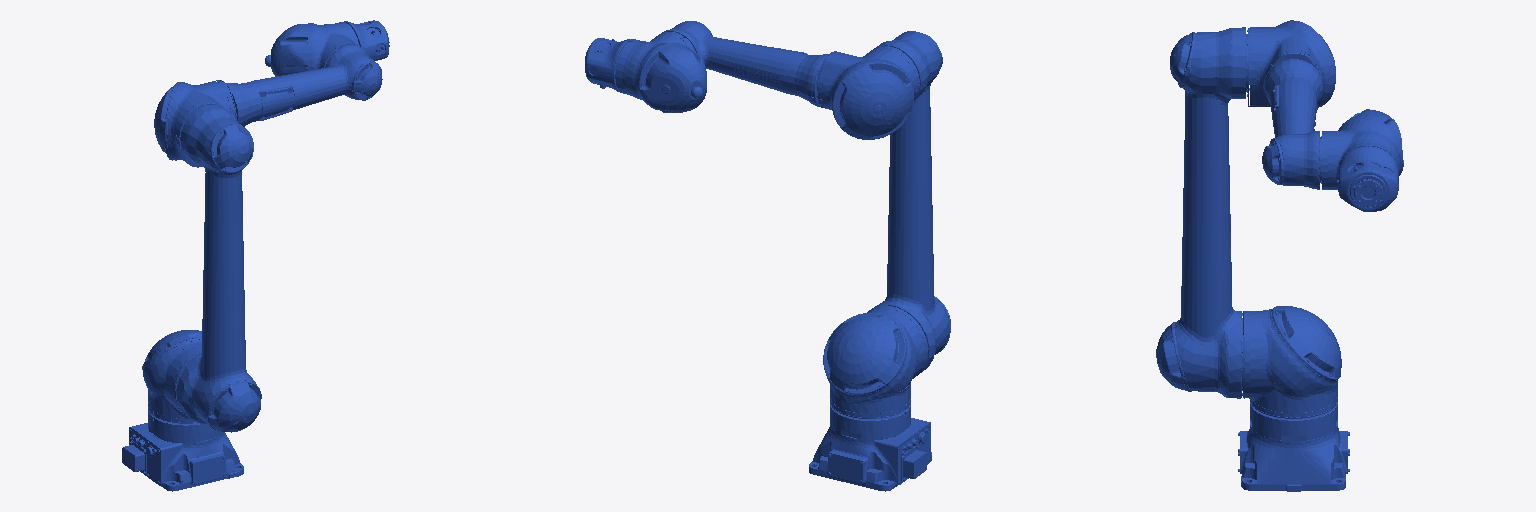
robot.urdf — motoman_hc10dtp:
<?xml version="1.0"?>
<robot name="motoman_hc10dtp">
  <link name="base_link"><visual><origin xyz="0.0000 0.0000 0.0000"/><geometry><mesh filename="meshes/hc10/collision/base_link.stl"/></geometry><material name="yaskawa_blue"><color rgba="0.25 0.4 0.75 1"/></material></visual><collision><origin xyz="0.0000 0.0000 0.0000"/><geometry><mesh filename="meshes/hc10/collision/base_link.stl"/></geometry></collision></link>
  <link name="link_1_s"><visual><origin xyz="0.0000 0.0000 0.2750"/><geometry><mesh filename="meshes/hc10/collision/link_1_s.stl"/></geometry><material name="yaskawa_blue"><color rgba="0.25 0.4 0.75 1"/></material></visual><collision><origin xyz="0.0000 0.0000 0.2750"/><geometry><mesh filename="meshes/hc10/collision/link_1_s.stl"/></geometry></collision></link>
  <joint name="joint_1_s" type="revolute"><parent link="base_link"/><child link="link_1_s"/><origin xyz="0.0000 0.0000 0.0000"/><axis xyz="0 0 1"/><limit lower="-3.6652" upper="3.6652" velocity="2.2689" effort="1000"/></joint>
  <link name="link_2_l"><visual><origin xyz="0.0000 0.0000 0.0000"/><geometry><mesh filename="meshes/hc10/collision/link_2_l.stl"/></geometry><material name="yaskawa_blue"><color rgba="0.25 0.4 0.75 1"/></material></visual><collision><origin xyz="0.0000 0.0000 0.0000"/><geometry><mesh filename="meshes/hc10/collision/link_2_l.stl"/></geometry></collision></link>
  <joint name="joint_2_l" type="revolute"><parent link="link_1_s"/><child link="link_2_l"/><origin xyz="0.0000 0.0000 0.2750"/><axis xyz="0 1 0"/><limit lower="-3.1416" upper="3.1416" velocity="2.2689" effort="1000"/></joint>
  <link name="link_3_u"><visual><origin xyz="0.0000 0.0000 0.0000"/><geometry><mesh filename="meshes/hc10/collision/link_3_u.stl"/></geometry><material name="yaskawa_blue"><color rgba="0.25 0.4 0.75 1"/></material></visual><collision><origin xyz="0.0000 0.0000 0.0000"/><geometry><mesh filename="meshes/hc10/collision/link_3_u.stl"/></geometry></collision></link>
  <joint name="joint_3_u" type="revolute"><parent link="link_2_l"/><child link="link_3_u"/><origin xyz="0.0000 0.0000 0.7000"/><axis xyz="0 -1 0"/><limit lower="-5.0615" upper="5.0615" velocity="3.1416" effort="1000"/></joint>
  <link name="link_4_r"><visual><origin xyz="0.0000 0.0000 0.0000"/><geometry><mesh filename="meshes/hc10/collision/link_4_r.stl"/></geometry><material name="yaskawa_blue"><color rgba="0.25 0.4 0.75 1"/></material></visual><collision><origin xyz="0.0000 0.0000 0.0000"/><geometry><mesh filename="meshes/hc10/collision/link_4_r.stl"/></geometry></collision></link>
  <joint name="joint_4_r" type="revolute"><parent link="link_3_u"/><child link="link_4_r"/><origin xyz="0.5000 0.0000 0.0000"/><axis xyz="-1 0 0"/><limit lower="-3.6652" upper="3.6652" velocity="3.1416" effort="1000"/></joint>
  <link name="link_5_b"><visual><origin xyz="0.0000 0.0000 0.0000"/><geometry><mesh filename="meshes/hc10/collision/link_5_b.stl"/></geometry><material name="yaskawa_blue"><color rgba="0.25 0.4 0.75 1"/></material></visual><collision><origin xyz="0.0000 0.0000 0.0000"/><geometry><mesh filename="meshes/hc10/collision/link_5_b.stl"/></geometry></collision></link>
  <joint name="joint_5_b" type="revolute"><parent link="link_4_r"/><child link="link_5_b"/><origin xyz="0.0000 0.1620 0.0000"/><axis xyz="0 -1 0"/><limit lower="-3.1416" upper="3.1416" velocity="4.3633" effort="1000"/></joint>
  <link name="link_6_t"><visual><origin xyz="-0.1700 0.0000 0.0000"/><geometry><mesh filename="meshes/hc10dtp_b00/collision/link_6_t.stl"/></geometry><material name="yaskawa_blue"><color rgba="0.25 0.4 0.75 1"/></material></visual><collision><origin xyz="-0.1700 0.0000 0.0000"/><geometry><mesh filename="meshes/hc10dtp_b00/collision/link_6_t.stl"/></geometry></collision></link>
  <joint name="joint_6_t" type="revolute"><parent link="link_5_b"/><child link="link_6_t"/><origin xyz="0.1700 0.0000 0.0000"/><axis xyz="-1 0 0"/><limit lower="-3.6652" upper="3.6652" velocity="4.3633" effort="1000"/></joint>
  <link name="flange"/>  <joint name="flange_fixed" type="fixed"><parent link="link_6_t"/><child link="flange"/><origin xyz="0 0 0"/></joint>
</robot>

--- Render facts (derived) ---
3 views of the same robot in one strip: view 1: azimuth 30°, elevation 25°; view 2: azimuth 150°, elevation 25°; view 3: azimuth 270°, elevation 25° (orthographic).
Model motoman_hc10dtp with 8 links and 7 joints (6 revolute, 1 fixed), rooted at base_link, posed every joint at zero.
Links seen in each view (by area): view 1: link_2_l, base_link, link_4_r, link_1_s, link_5_b, link_3_u, link_6_t; view 2: link_2_l, link_1_s, base_link, link_3_u, link_5_b, link_4_r, link_6_t; view 3: link_2_l, link_1_s, base_link, link_4_r, link_3_u, link_5_b, link_6_t.
Link boxes in pixels (x1,y1,x2,y2): link_2_l: [176, 104, 261, 432]; base_link: [122, 408, 243, 491]; link_4_r: [226, 45, 382, 126]; link_1_s: [142, 330, 229, 423]; link_5_b: [265, 22, 359, 76]; link_3_u: [154, 80, 236, 167]; link_6_t: [337, 20, 389, 60]; link_2_l: [872, 31, 950, 372]; link_1_s: [823, 305, 928, 418]; base_link: [809, 404, 931, 491]; link_3_u: [817, 46, 919, 139]; link_5_b: [615, 32, 706, 112]; link_4_r: [662, 21, 828, 107]; link_6_t: [585, 38, 632, 92]; link_2_l: [1156, 27, 1245, 398]; link_1_s: [1242, 306, 1341, 418]; base_link: [1238, 402, 1349, 491]; link_4_r: [1262, 59, 1322, 189]; link_3_u: [1246, 20, 1335, 107]; link_5_b: [1320, 109, 1403, 189]; link_6_t: [1337, 146, 1398, 211].
Bounding box of the posed robot: 0.8221 × 0.5399 × 1.06 m (x, y, z).
Meshes: 7 distinct files referenced, 7 mesh visuals loaded (7 binary STL).
